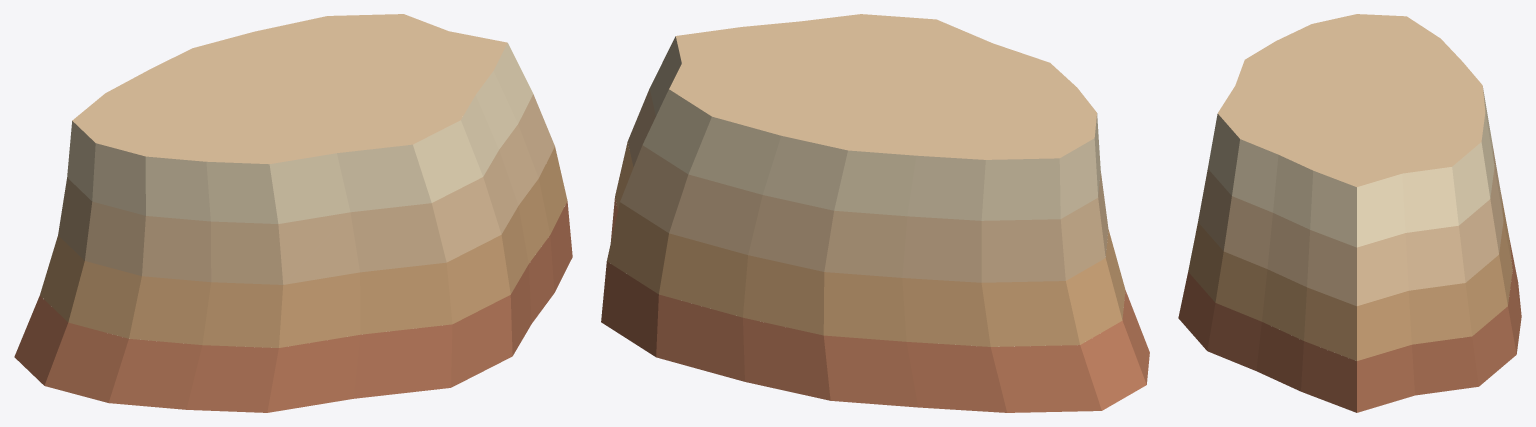
File: desert-canyons-and-oases-banded-block-1-bcbba006__20924.glb
The picture shows the model from 3 angles, left to right: view 1: azimuth 30°, elevation 25°; view 2: azimuth 150°, elevation 25°; view 3: azimuth 270°, elevation 25°; orthographic projection. The views are drawn at different scales.
Visible parts, largest first — view 1: banded-block-1; view 2: banded-block-1; view 3: banded-block-1.
Boxes of the visible parts, bbox=[...] form: banded-block-1: bbox=[14, 14, 572, 412]; banded-block-1: bbox=[601, 14, 1149, 412]; banded-block-1: bbox=[1178, 14, 1521, 412].
Bounding box in the file's own units: 2.88 × 1.2 × 1.88.
